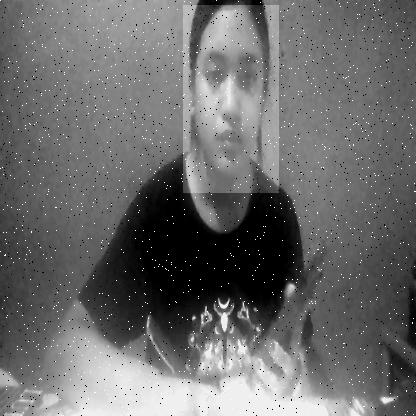Normal: (183, 5, 279, 193)
